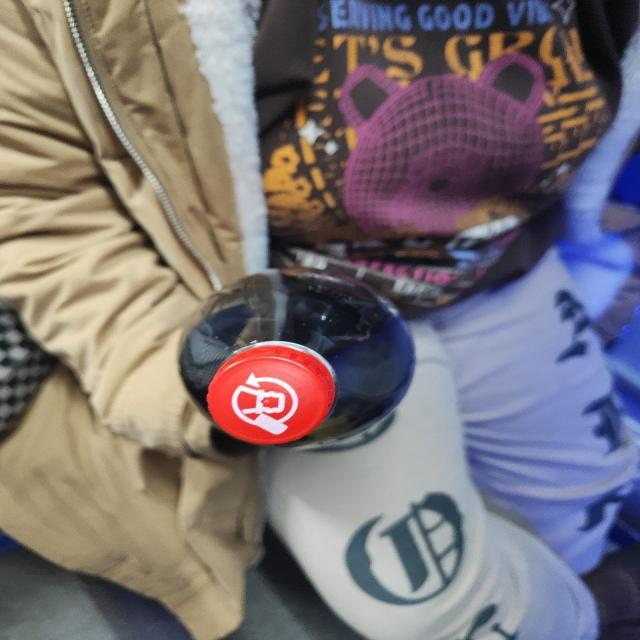Circle: (202, 350, 336, 452)
